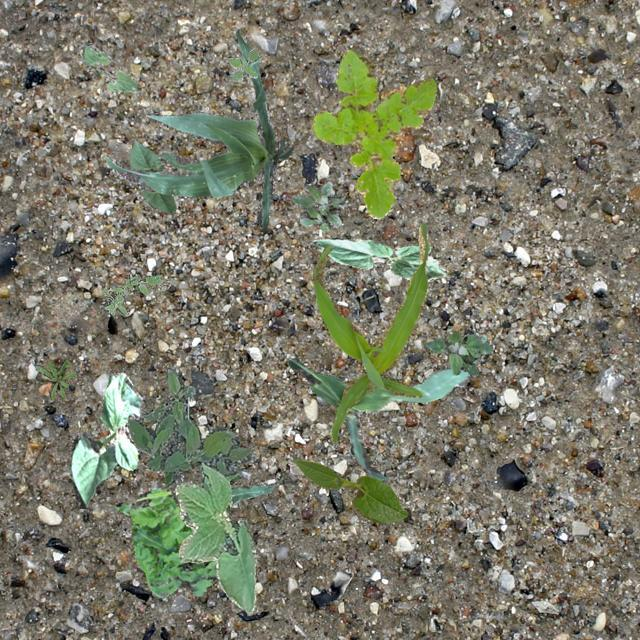crop: (105, 31, 292, 230), (286, 334, 486, 479), (312, 222, 428, 442), (174, 460, 255, 612), (70, 372, 140, 508), (294, 458, 406, 522), (310, 238, 444, 280), (128, 140, 174, 213), (80, 42, 138, 92), (225, 470, 282, 504)
weed: (310, 49, 436, 218), (126, 368, 255, 487), (114, 487, 215, 598), (101, 272, 178, 316), (424, 331, 492, 376), (290, 180, 344, 230), (34, 358, 74, 399), (227, 48, 260, 80)
